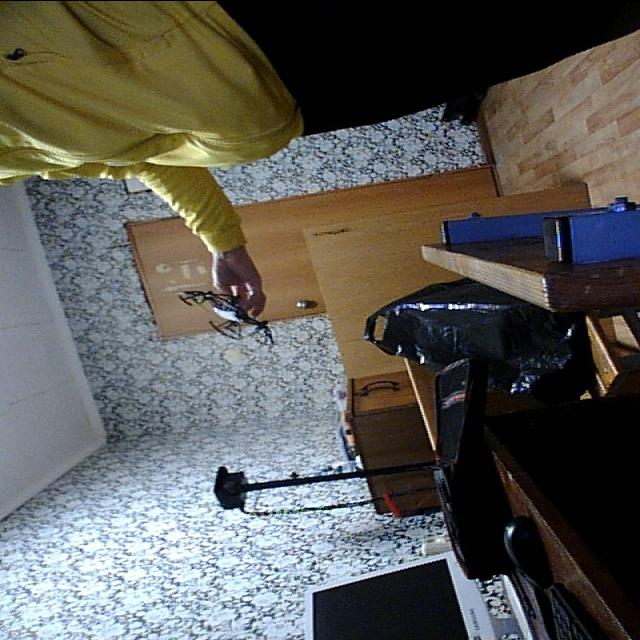drone: (177, 283, 279, 347)
